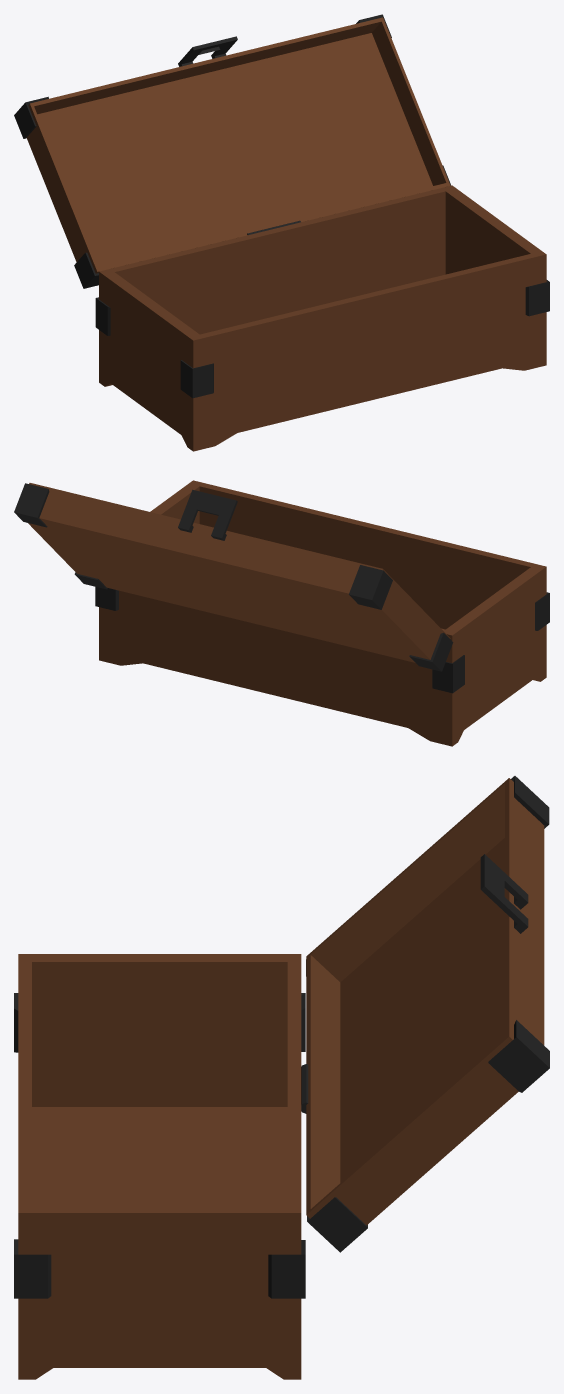
Rendered from tablechest02.obj.
3 views of the same model, one above another, from view 1: azimuth 30°, elevation 25°; view 2: azimuth 150°, elevation 25°; view 3: azimuth 270°, elevation 25° (orthographic). The views are drawn at different scales.
Parts seen in each view (by area): view 1: Cube; view 2: Cube; view 3: Cube.
Boxes of the visible parts, <box> form: Cube: <box>14,14,549,451</box>; Cube: <box>14,480,549,746</box>; Cube: <box>14,776,549,1379</box>.
Bounding box in the file's own units: 0.4489 × 0.3033 × 0.3877.
